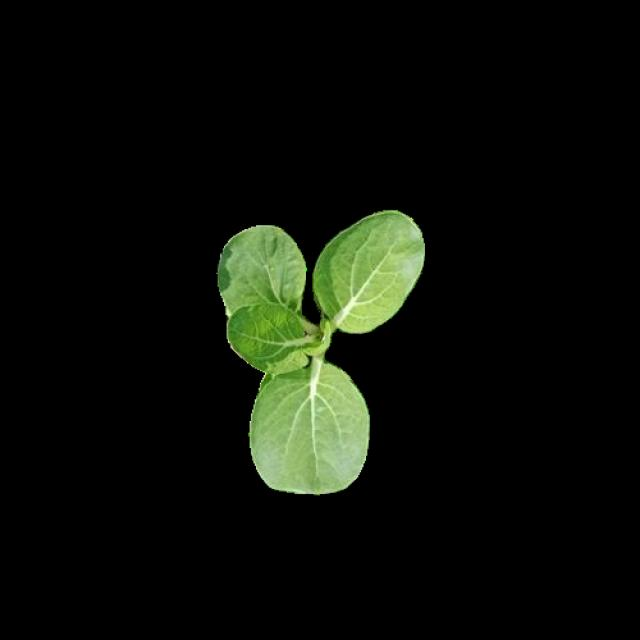healthy: (210, 208, 427, 492)
not-mature: (210, 212, 427, 496)
